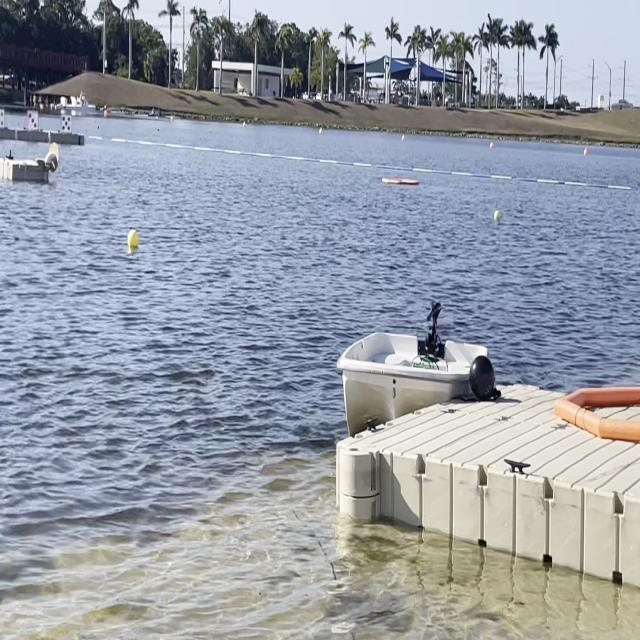buoy: (124, 222, 140, 258), (492, 206, 503, 224)
